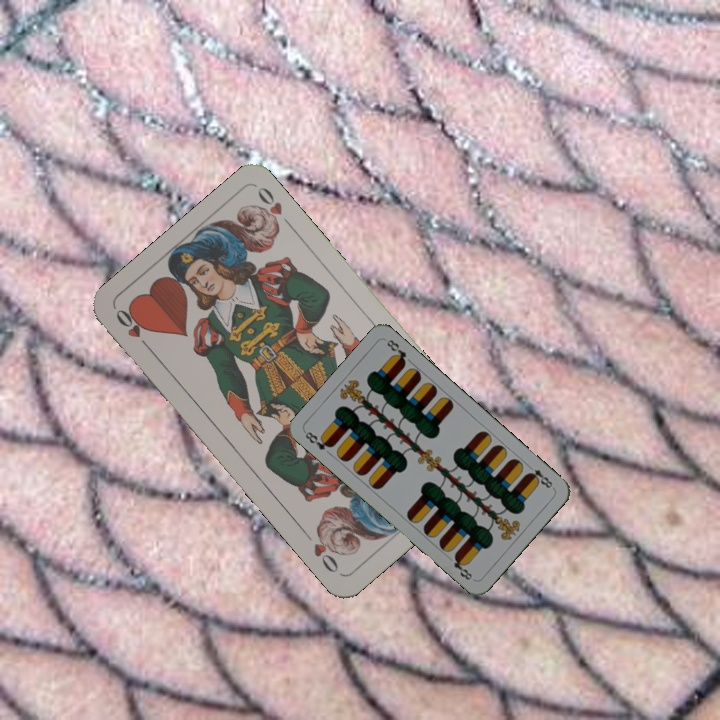E8: (523, 460, 555, 491), (301, 427, 336, 453)
HO: (111, 304, 155, 354)
